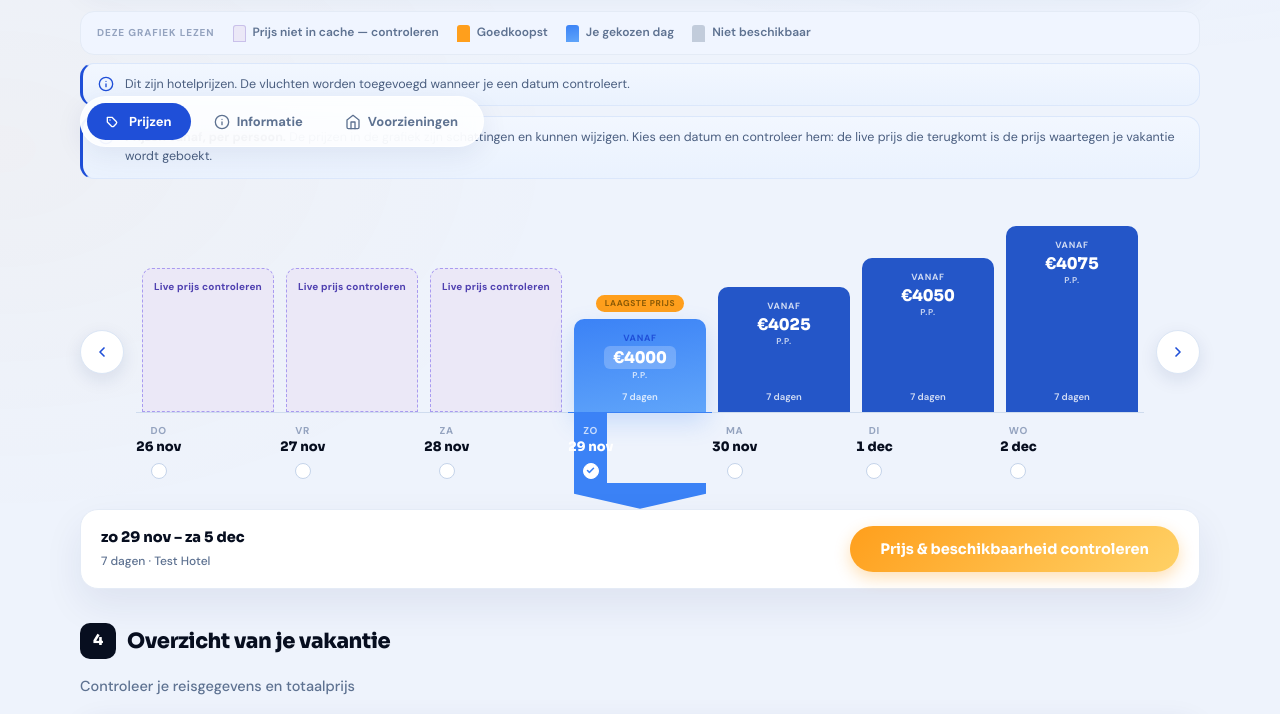
a room row never quotes what cancelling would cost › drops the "Cancel now costs" chip from a rate whose free window has closed
(page scrolled)
Click the button "Laagste prijs vanaf €4000 p.p. 7 dagen zo 29 nov" at {"x": 640, "y": 355}, box [568, 201, 712, 509]
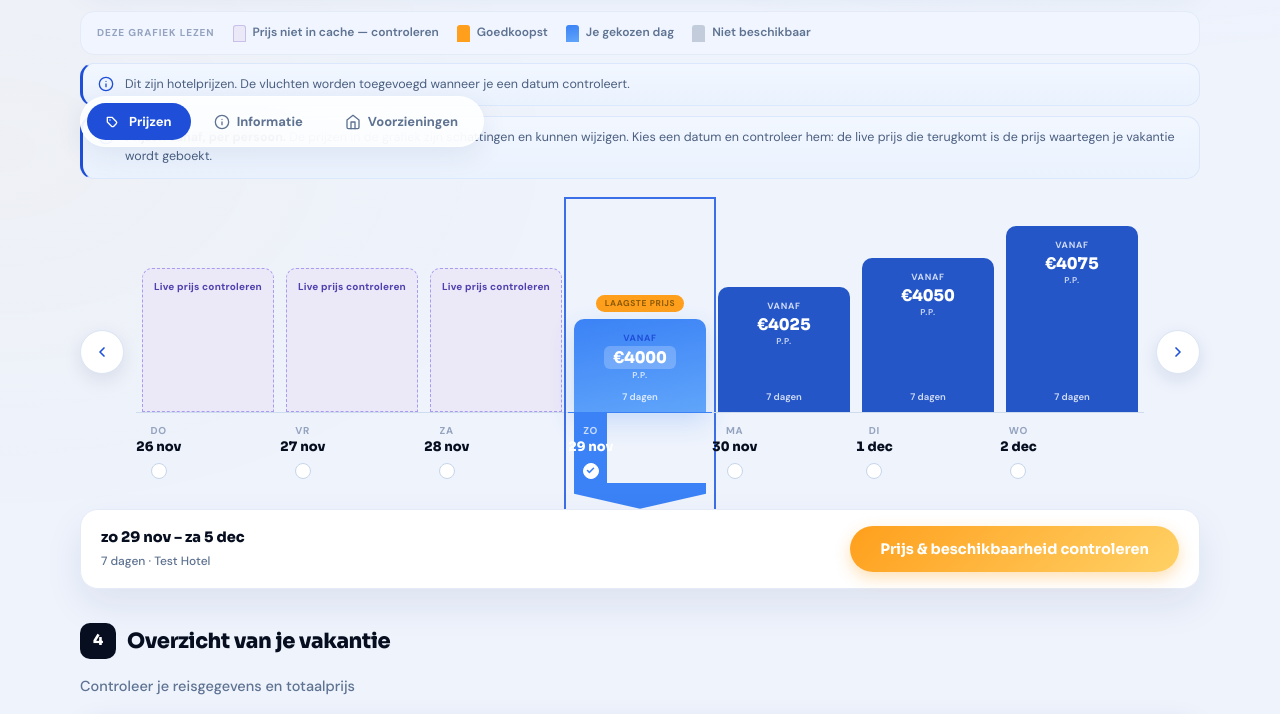
Click the button "Prijs & beschikbaarheid controleren" at {"x": 1015, "y": 549}, box [850, 526, 1179, 572]
(page scrolled)
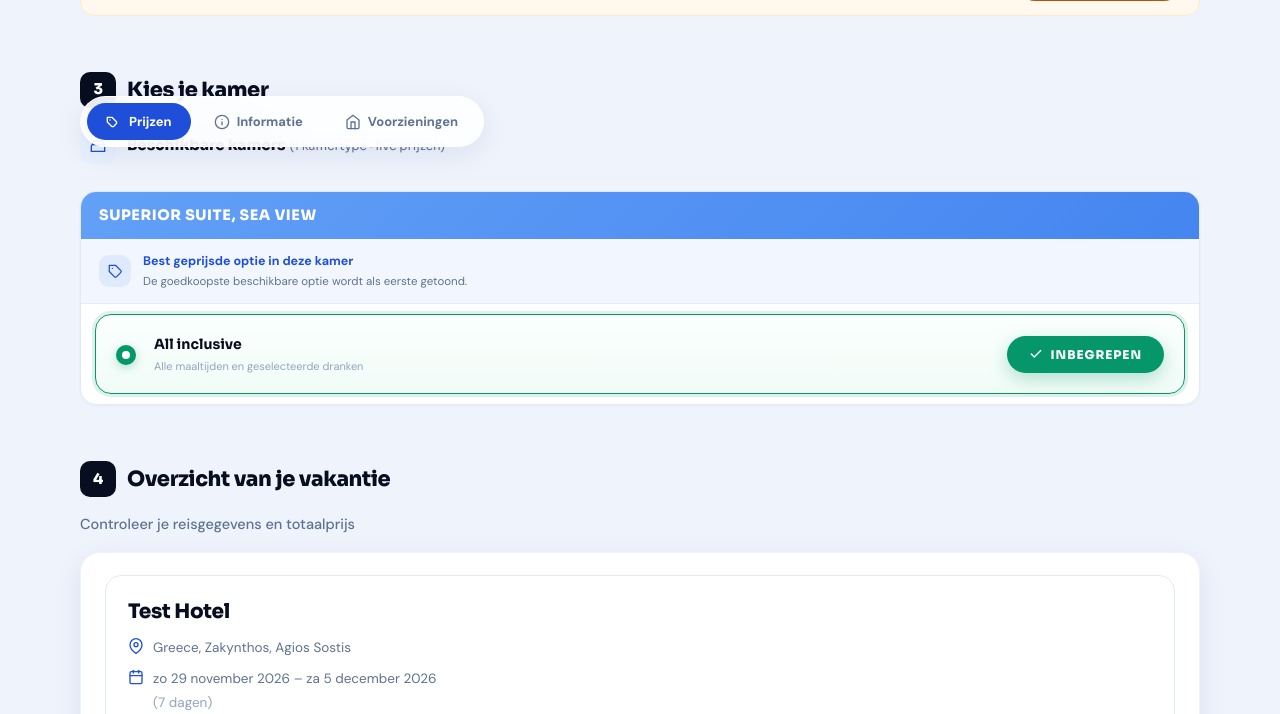
expect the element with class "room-option" is shown: met, box [95, 314, 1185, 394]
